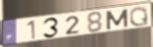1: (27, 19, 37, 40)
2: (65, 15, 82, 36)
3: (40, 17, 61, 39)
8: (86, 11, 104, 34)
M: (105, 8, 130, 31)
Q: (129, 6, 150, 27)
